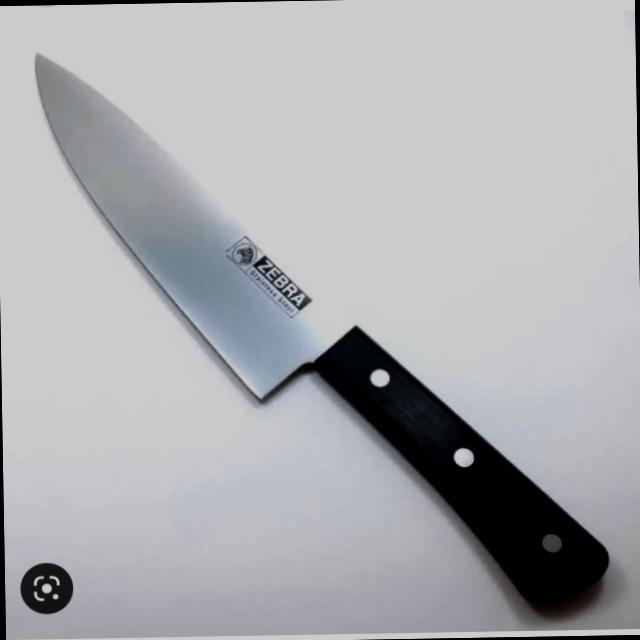knife: (24, 35, 616, 622)
